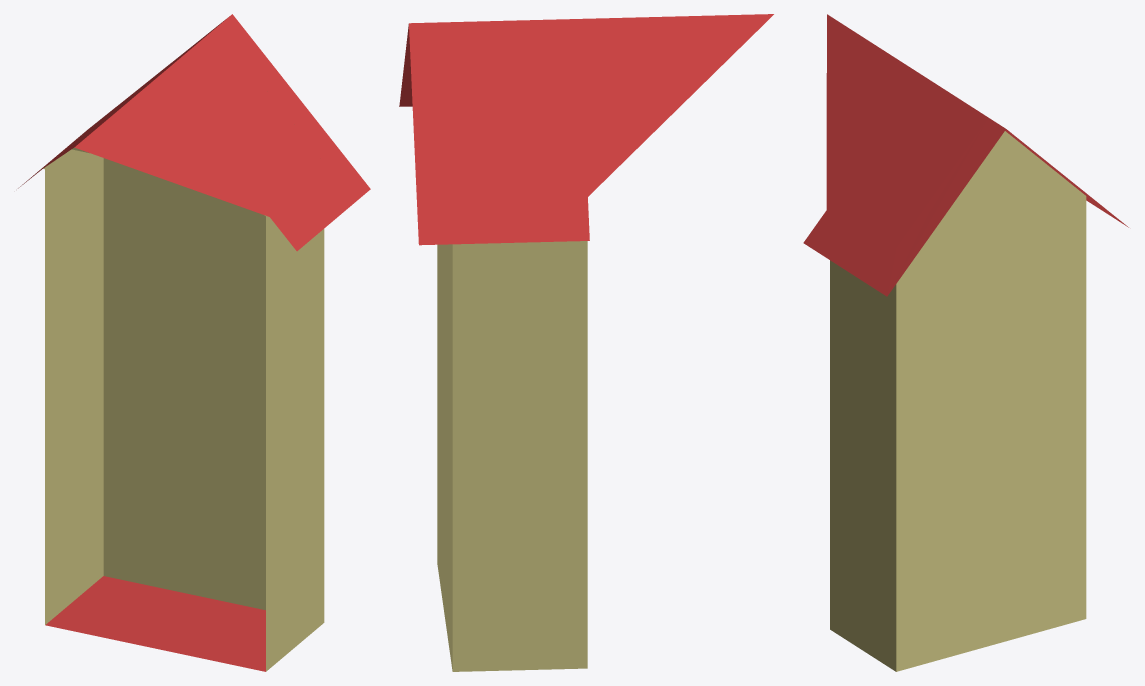
3 views of the same model, side by side, from view 1: azimuth 30°, elevation 25°; view 2: azimuth 150°, elevation 25°; view 3: azimuth 270°, elevation 25° (orthographic). The views are drawn at different scales.
Bounding box in the file's own units: 8.23 × 7.68 × 13.68.
